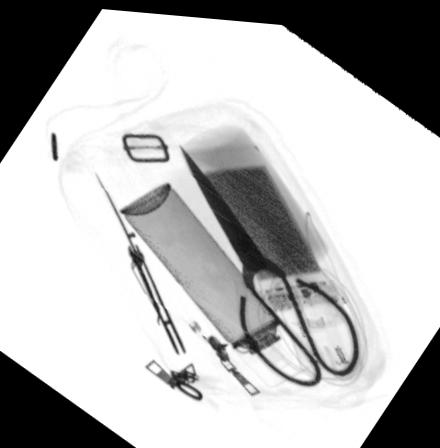Knife: (90, 164, 187, 354)
Powerbank: (183, 138, 344, 309)
Scissors: (172, 134, 361, 380)
Sprayer: (119, 175, 312, 382)
